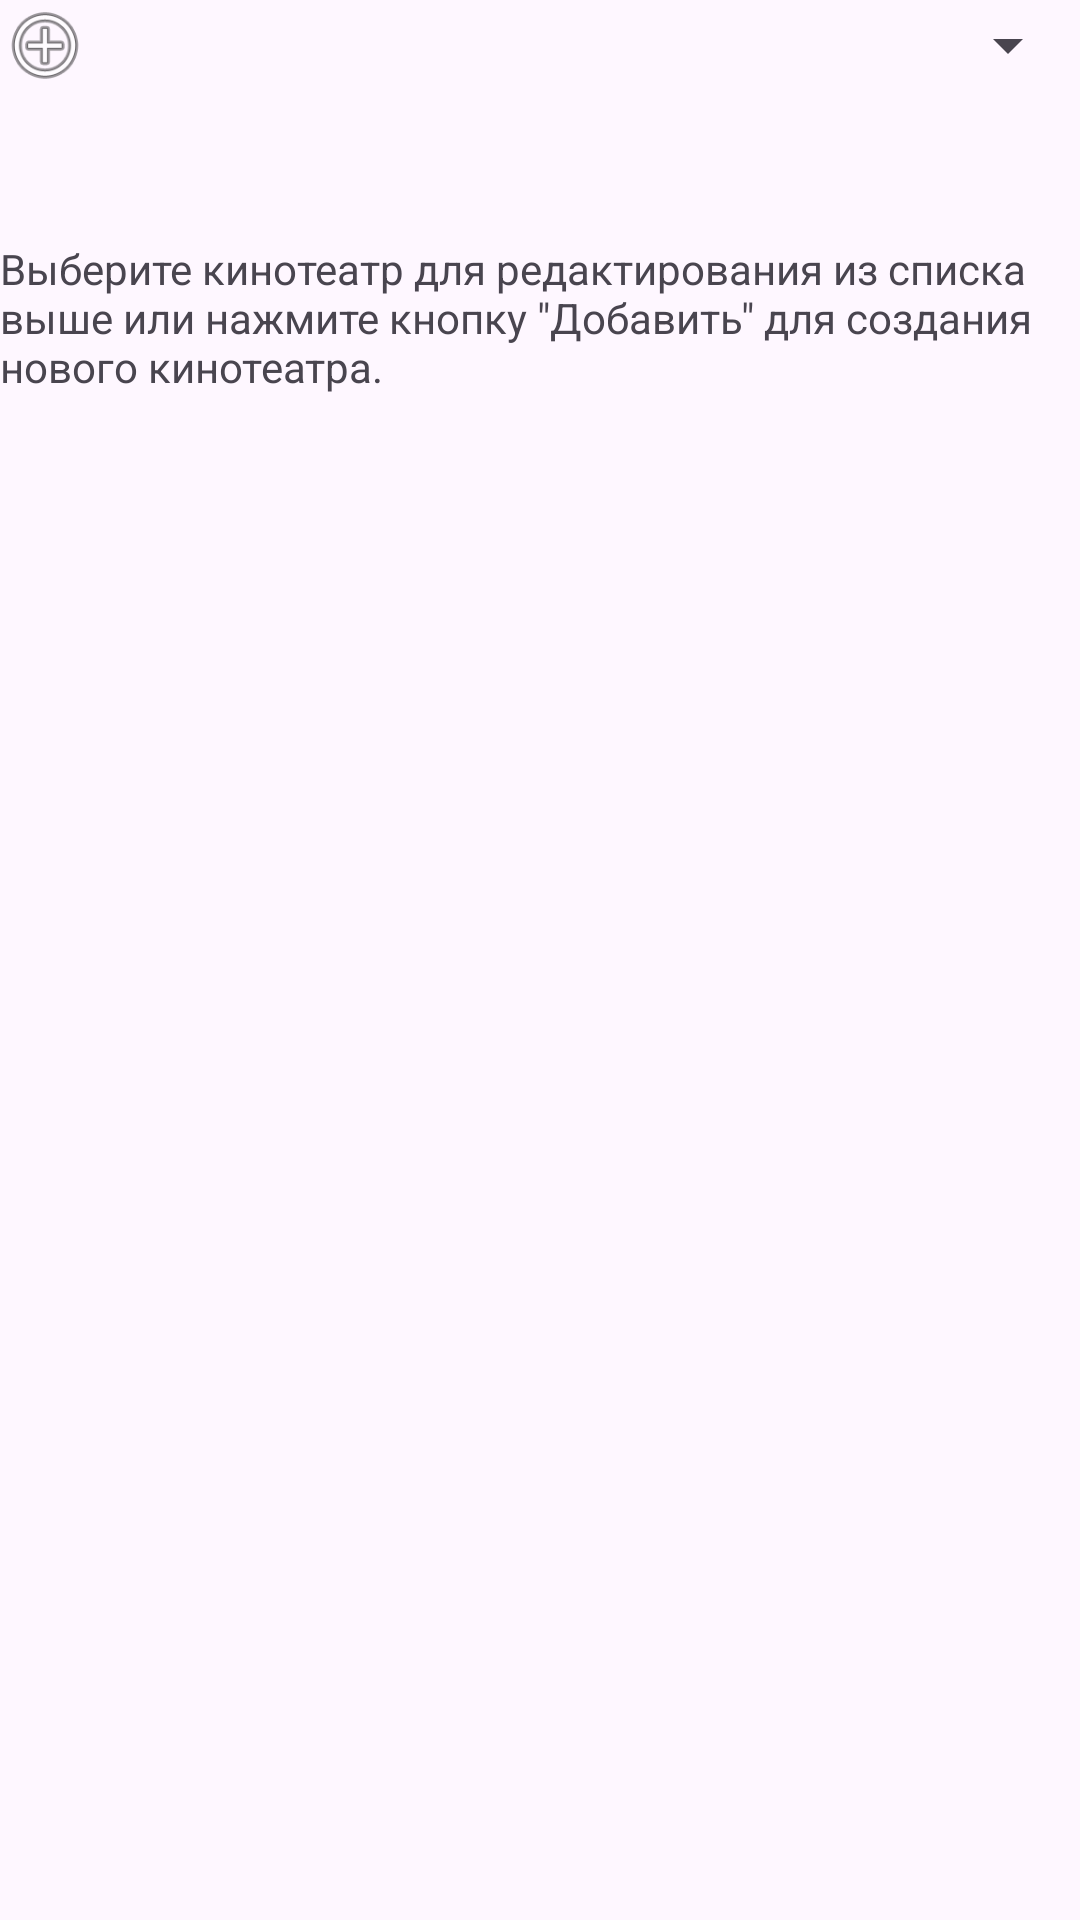

Named icons in this screenshot (1080px x 1920px) and their bounding boxes, {"left": x1, "top": y1, "right": x2, "bottom": y2}:
add: {"left": 11, "top": 12, "right": 79, "bottom": 79}
